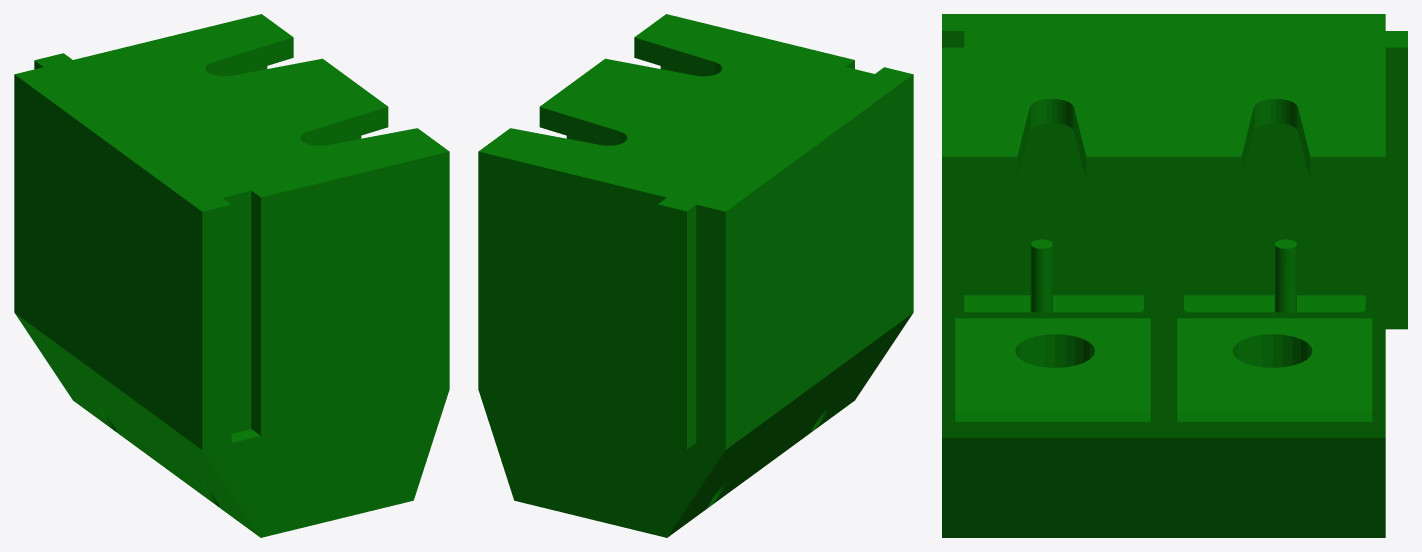
The model's file is zatana_terra_base_vis_15.dae.
The picture shows the model from 3 angles, left to right: view 1: azimuth 30°, elevation 25°; view 2: azimuth 150°, elevation 25°; view 3: azimuth 270°, elevation 25°; orthographic projection. The views are drawn at different scales.
Visible parts, largest first — view 1: Node_000002318374BEC0; view 2: Node_000002318374BEC0; view 3: Node_000002318374BEC0.
Boxes of the visible parts, left/top/right/bottom form: Node_000002318374BEC0: left=14, top=14, right=449, bottom=537; Node_000002318374BEC0: left=478, top=14, right=913, bottom=537; Node_000002318374BEC0: left=942, top=14, right=1407, bottom=537.
Bounding box in the file's own units: 0.0076 × 0.01 × 0.0105.
